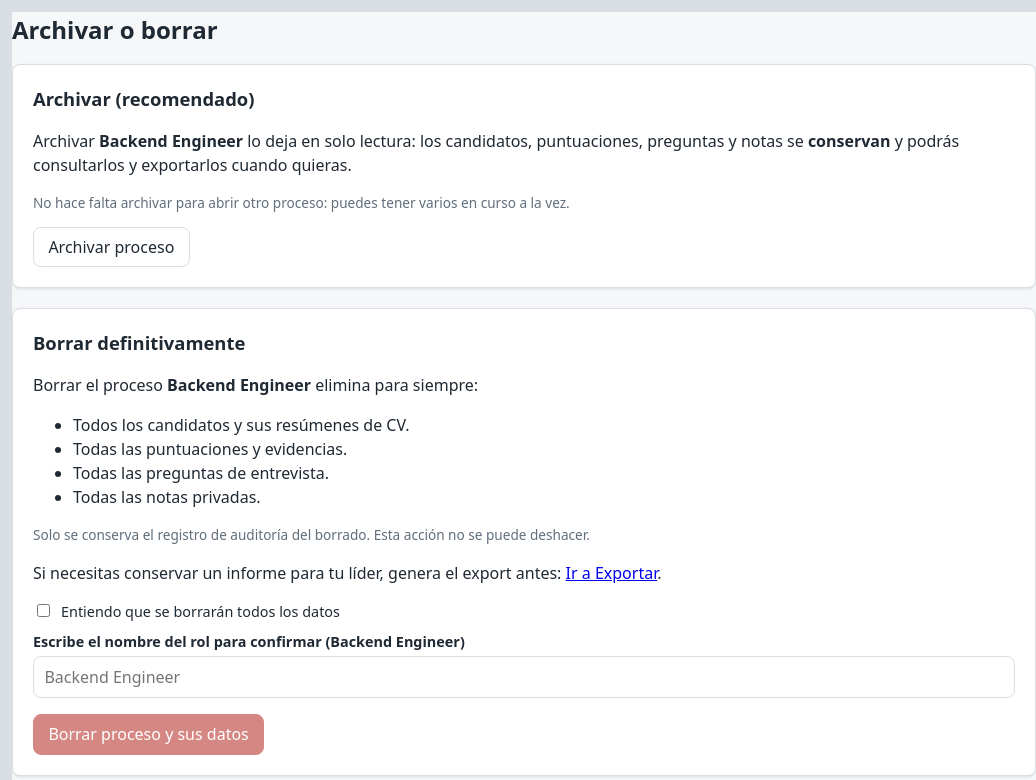
it: ClosePage — borrado definitivo › deshabilita el botón de borrado hasta cumplir la doble confirmación
The width and height of the screenshot is (1036, 780).
Expected: the button "Borrar proceso y sus datos" is disabled, left=33, top=714, right=264, bottom=755
// Solo el checkbox: sigue deshabilitado.
Click the checkbox labelled "Entiendo que se borrarán todos los datos": (44, 610) left=37, top=604, right=50, bottom=617
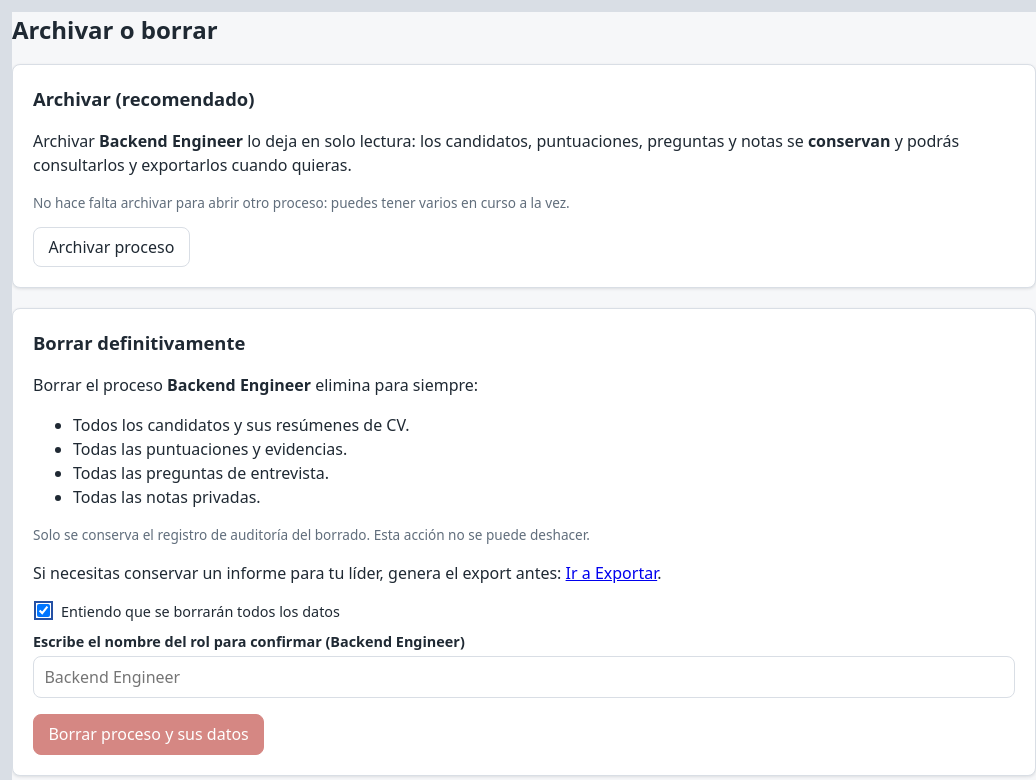
Expected: the button "Borrar proceso y sus datos" is disabled, left=33, top=714, right=264, bottom=755
In the field labelled "Escribe el nombre del rol para confirmar (Backend Engineer)": (524, 677) left=33, top=656, right=1015, bottom=698, type "Otro rol"
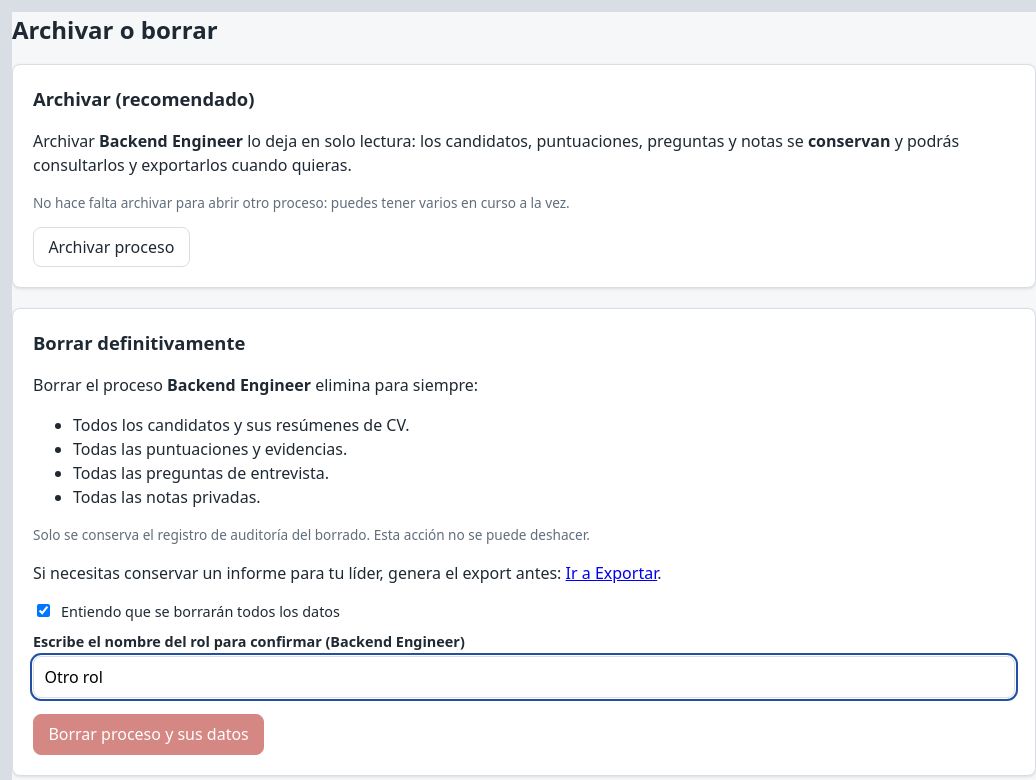
Expected: the button "Borrar proceso y sus datos" is disabled, left=33, top=714, right=264, bottom=755
// Nombre exacto + checkbox: se habilita.
Replace the text in the field labelled "Escribe el nombre del rol para confirmar (Backend Engineer)" with "Backend Engineer": (524, 677) left=33, top=656, right=1015, bottom=698
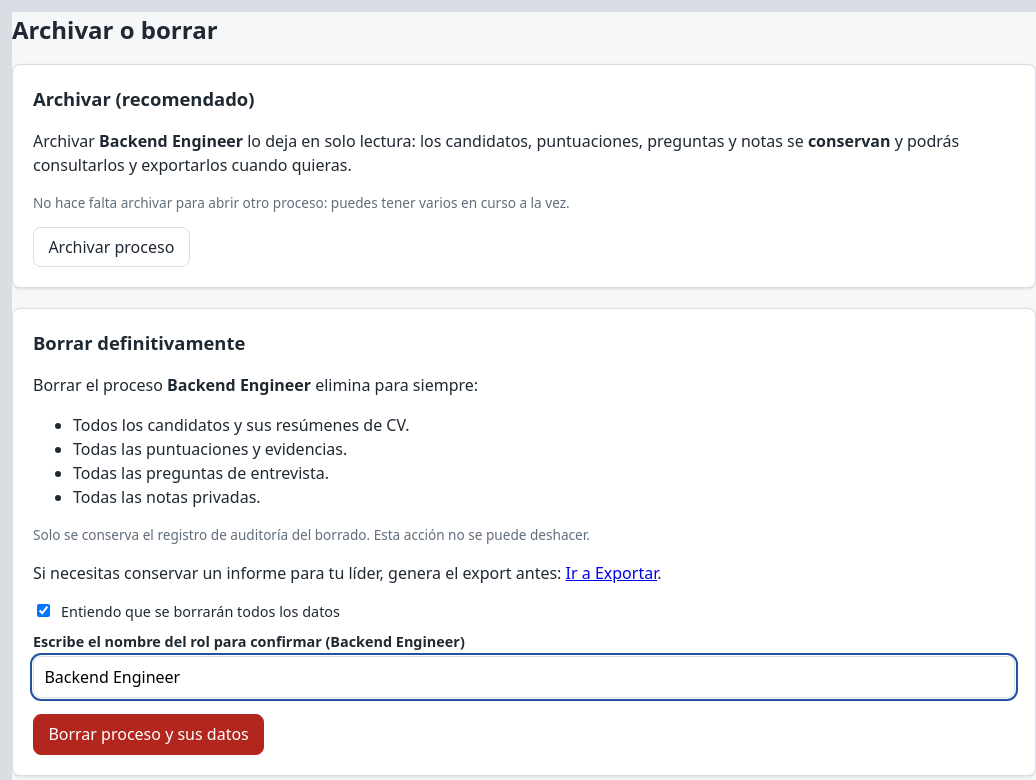
Now the button "Borrar proceso y sus datos" is enabled, box left=33, top=714, right=264, bottom=755
// Si se desmarca el checkbox vuelve a deshabilitarse.
Click the checkbox labelled "Entiendo que se borrarán todos los datos": (44, 610) left=37, top=604, right=50, bottom=617
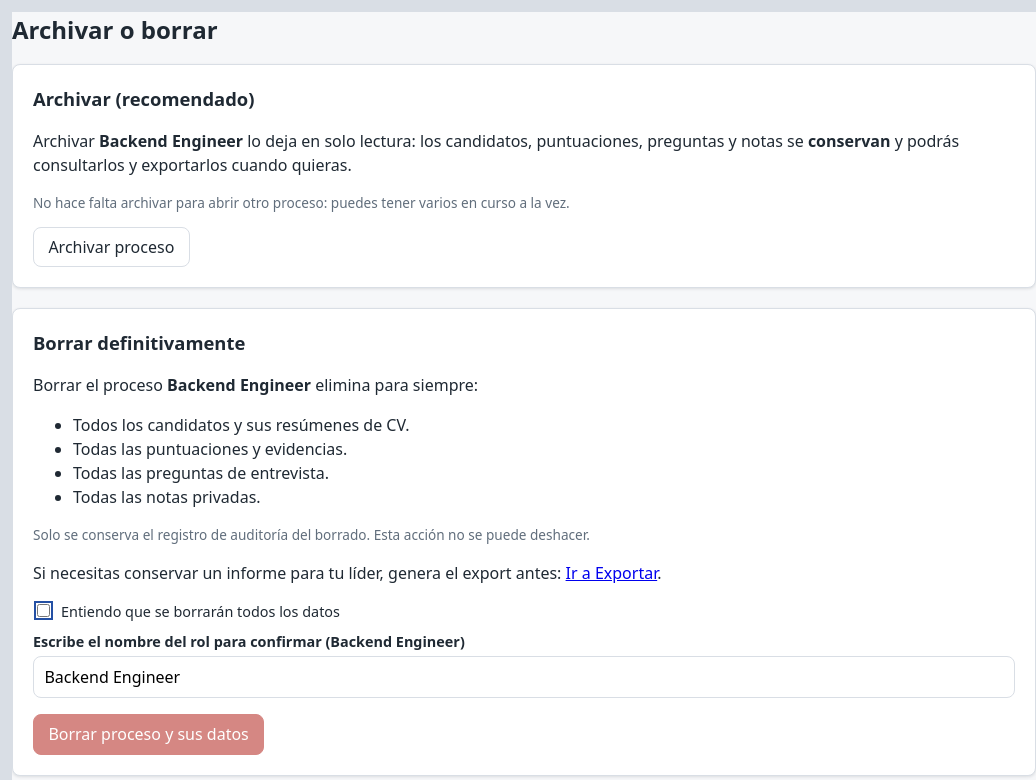
Now the button "Borrar proceso y sus datos" is disabled, box left=33, top=714, right=264, bottom=755
